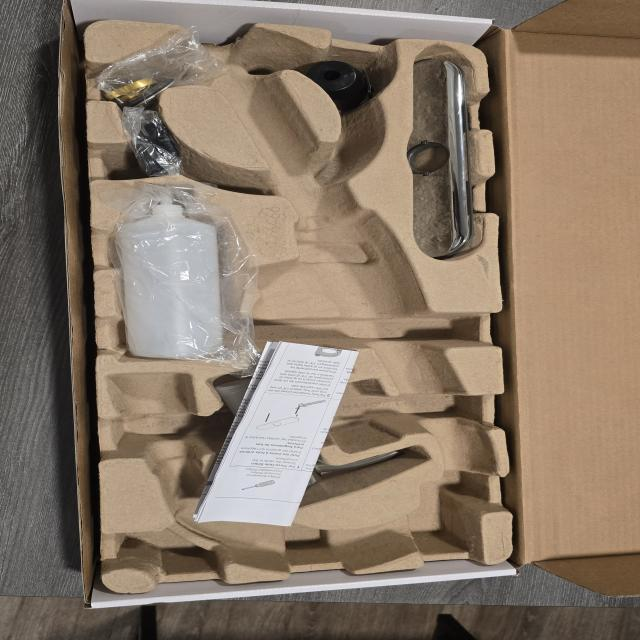1m: (110, 40, 490, 563)
2o: (217, 374, 400, 488)
3: (112, 183, 225, 360)
4: (400, 57, 475, 260)
5m: (296, 60, 377, 111)
6: (98, 28, 230, 104)
7: (124, 107, 192, 175)
8: (192, 340, 358, 527)
